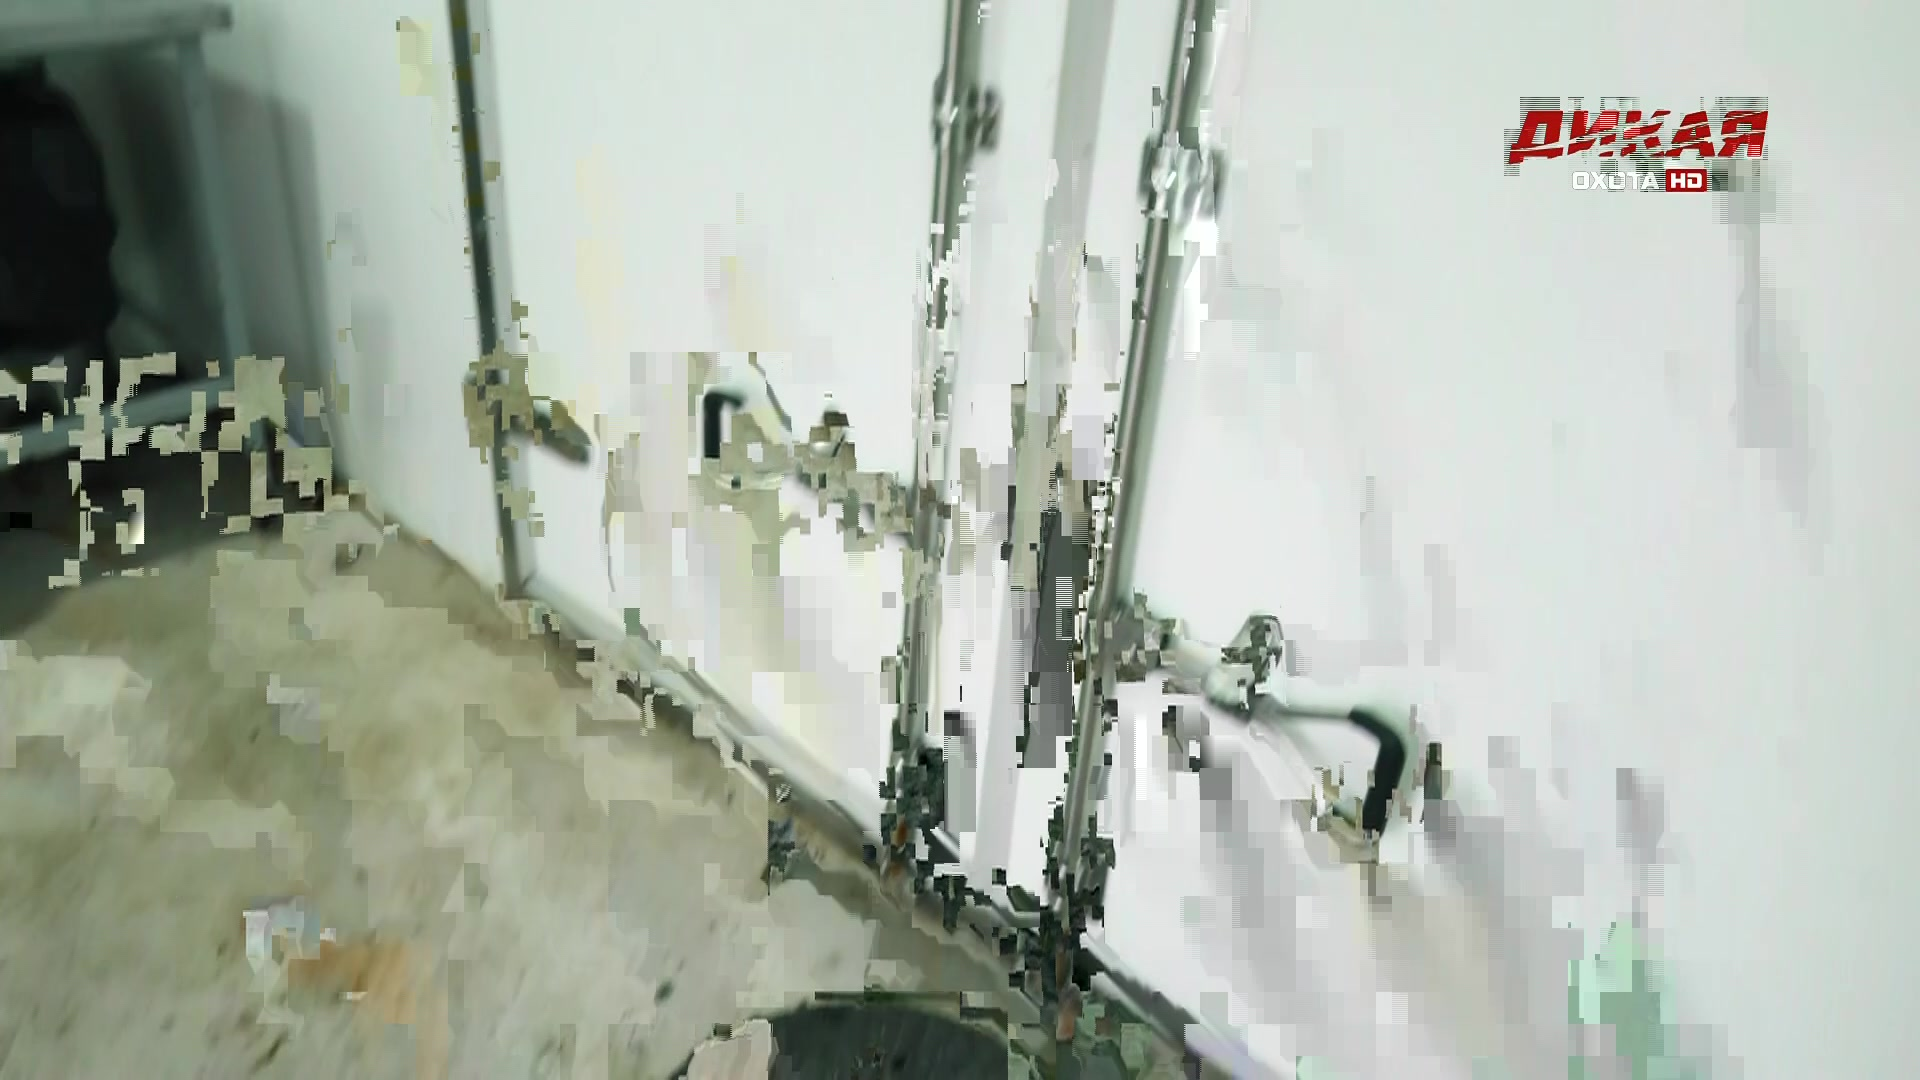Dikaya_Ohota_HD: (1505, 104, 1774, 195)
